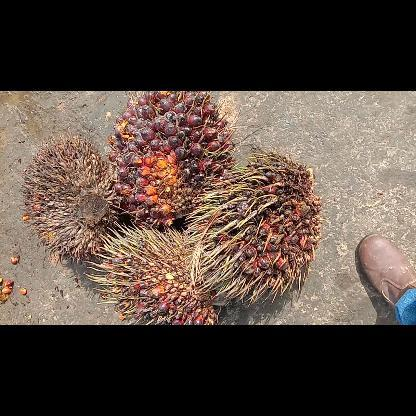Kurang masak: (188, 152, 320, 305)
TBS abnormal: (86, 226, 224, 324), (19, 132, 121, 260)
Terlalu masak: (105, 91, 233, 230)
